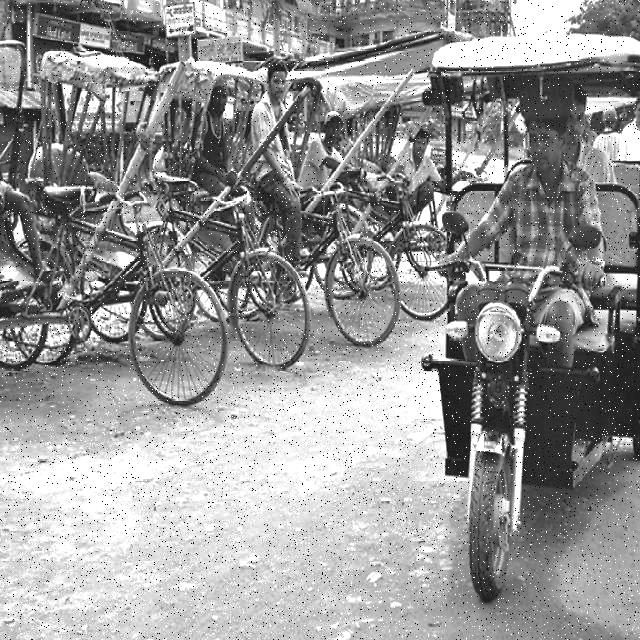Toto: (427, 31, 640, 591)
